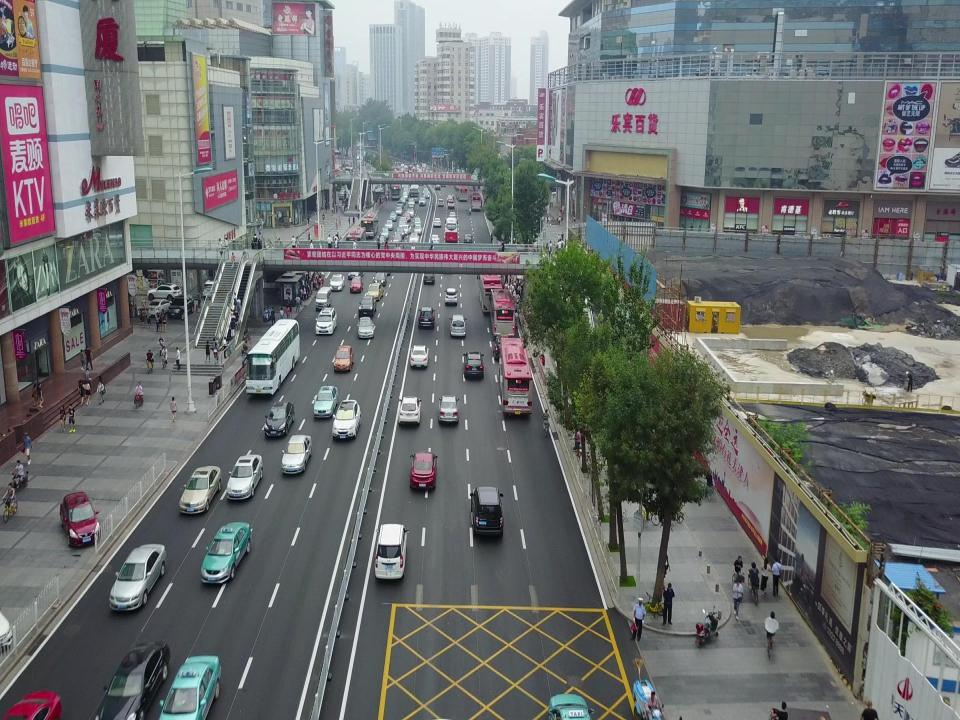bus: (242, 317, 300, 396), (498, 336, 534, 418), (476, 262, 504, 315), (488, 288, 516, 338), (358, 213, 378, 239), (346, 227, 366, 251), (445, 217, 458, 243), (470, 191, 482, 211), (454, 184, 468, 201), (390, 180, 402, 199), (409, 184, 419, 203)
car: (93, 638, 170, 720), (156, 652, 221, 720), (108, 543, 168, 613), (199, 520, 253, 585), (58, 489, 102, 548), (178, 464, 222, 515), (374, 520, 410, 580), (469, 484, 505, 537), (225, 454, 263, 502), (546, 691, 595, 720), (332, 398, 362, 443), (280, 434, 312, 476), (263, 399, 295, 439), (410, 450, 438, 492), (313, 384, 340, 420), (398, 394, 422, 426), (168, 291, 194, 319), (314, 306, 338, 335), (437, 394, 459, 425), (333, 344, 354, 375), (146, 282, 182, 300), (462, 350, 484, 379), (146, 297, 174, 316), (410, 343, 430, 369), (491, 336, 511, 359), (418, 306, 436, 330), (356, 316, 374, 339), (202, 278, 220, 300), (358, 296, 377, 316), (366, 282, 384, 301), (329, 273, 345, 291), (372, 271, 388, 288), (444, 287, 458, 306), (348, 266, 364, 282), (349, 277, 363, 293), (423, 270, 435, 286), (394, 226, 405, 239), (409, 231, 419, 244), (376, 235, 386, 247), (392, 232, 402, 244), (384, 219, 394, 231), (413, 224, 423, 235), (401, 224, 411, 235), (380, 227, 390, 238), (388, 210, 398, 221), (463, 233, 473, 244), (430, 234, 440, 244), (433, 218, 442, 228), (403, 211, 411, 222), (414, 216, 422, 226), (394, 206, 402, 216), (406, 207, 414, 217), (398, 220, 406, 229), (396, 200, 404, 209), (437, 198, 445, 207), (447, 200, 455, 209), (407, 198, 415, 207), (419, 197, 426, 206), (407, 203, 414, 212), (449, 211, 456, 219), (399, 196, 406, 204), (447, 194, 453, 203), (434, 183, 441, 190), (400, 217, 406, 225), (402, 192, 408, 199), (423, 192, 429, 199), (422, 187, 428, 194)
van: (449, 313, 467, 337), (314, 286, 332, 309)
